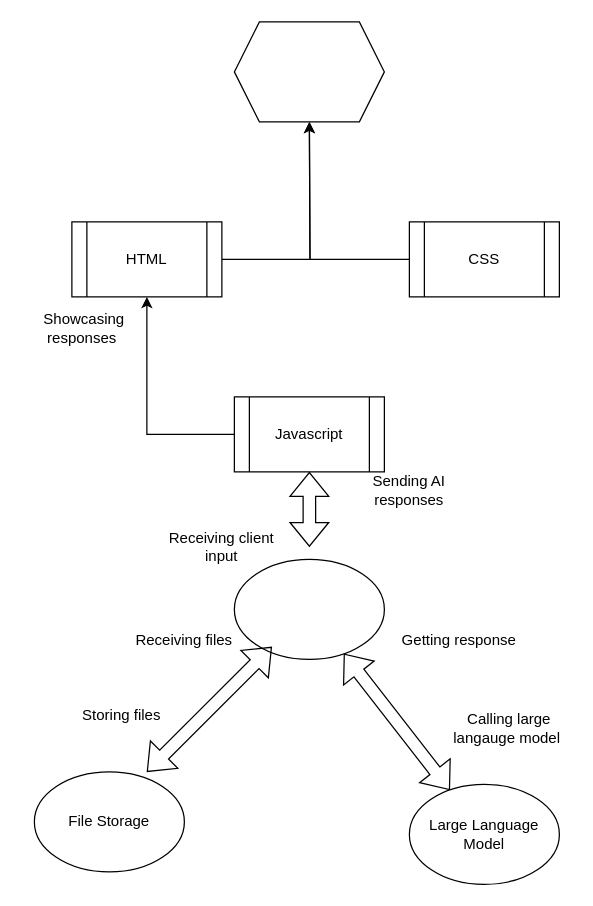
Image size: 593x906. Some labels were removed from this diagram. Here are the shapes that lost their labels. From the top down, the centre of each, then its label:
(308,71): Client
(308,608): Python
